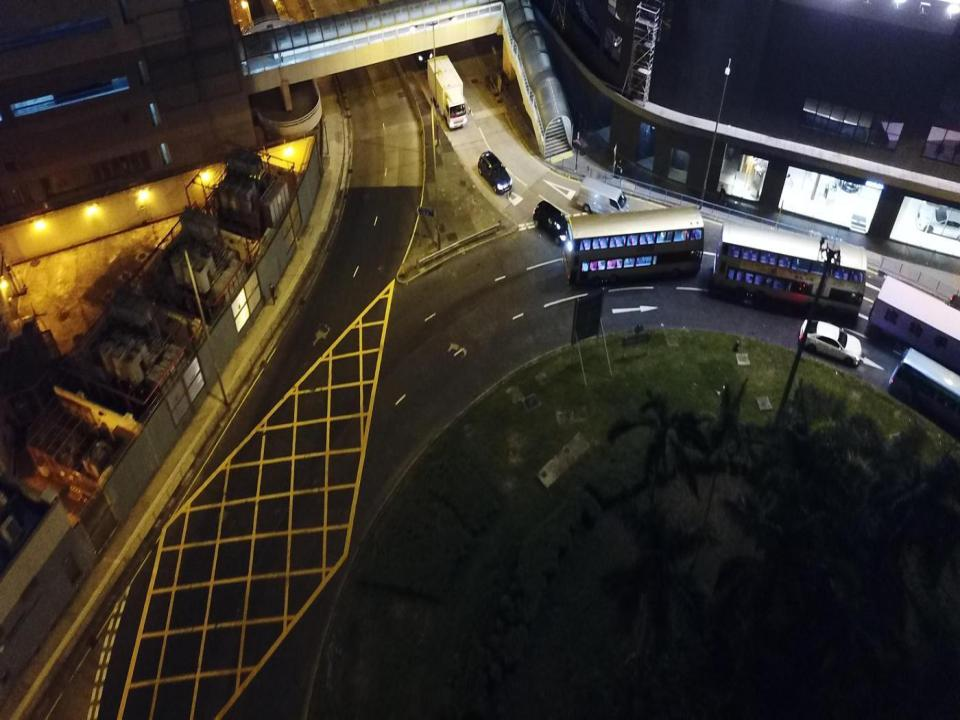bus: (711, 222, 868, 319), (562, 204, 704, 288), (888, 347, 960, 427)
car: (799, 319, 862, 365), (533, 200, 571, 247), (917, 204, 960, 242), (477, 150, 513, 195), (411, 27, 433, 64)
truck: (867, 274, 960, 382), (426, 54, 467, 129)
van: (578, 175, 630, 224)
